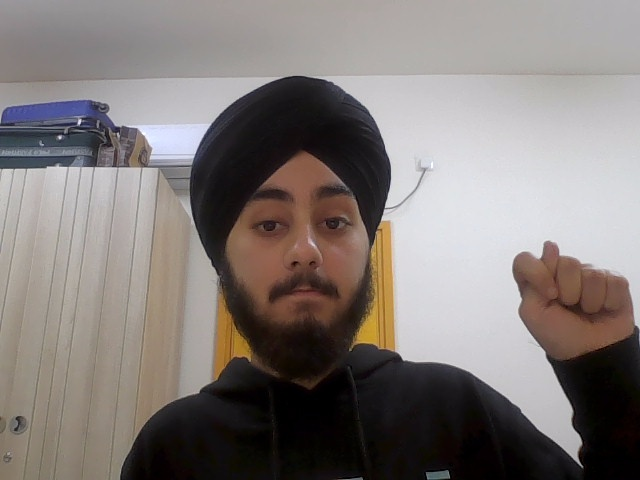Bathroom: (509, 236, 640, 344)
